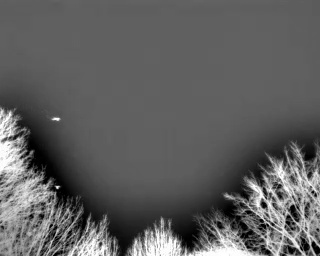BIRD: (50, 114, 63, 124)
